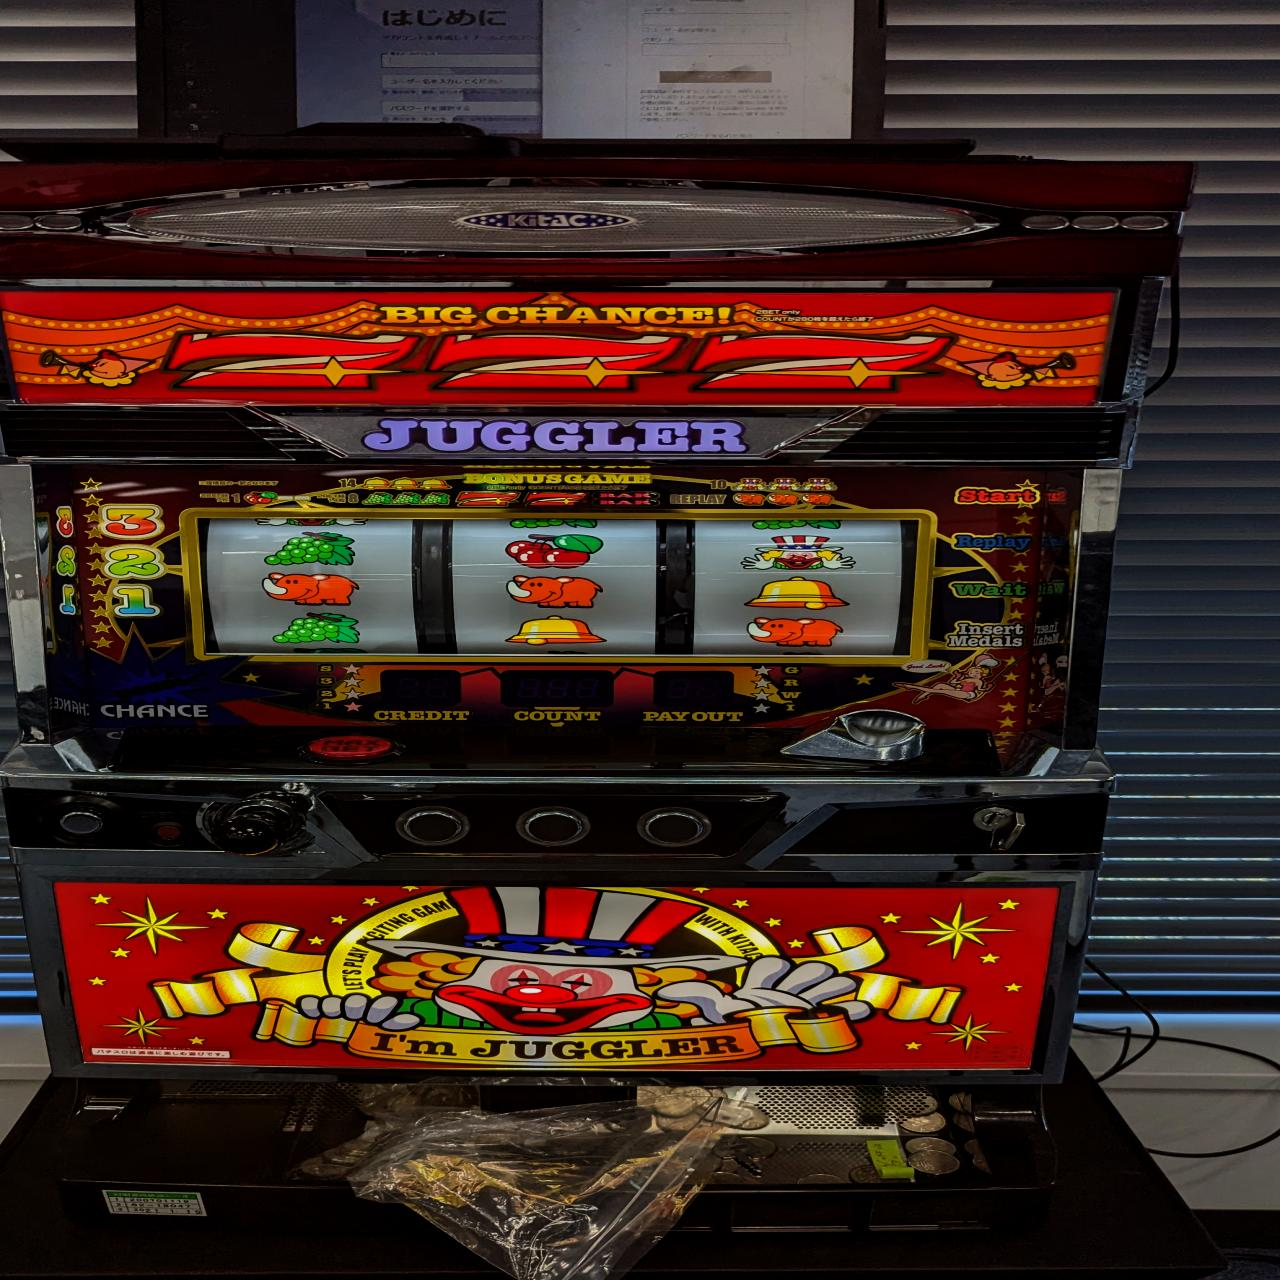8: (503, 573, 618, 608), (254, 572, 368, 607), (738, 614, 847, 651)
Display: (189, 512, 922, 661)
bell: (741, 574, 853, 611), (502, 613, 610, 648)
cherry: (498, 532, 607, 570)
clown: (737, 535, 859, 570)
grape: (263, 530, 360, 568), (271, 611, 365, 647)
